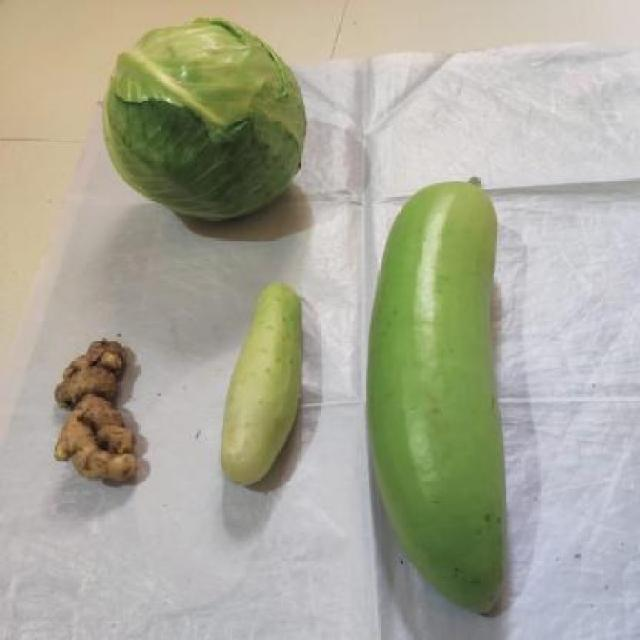Cabbage: (94, 10, 323, 226)
Calabash: (364, 160, 534, 623)
Ginger: (41, 328, 152, 494)
cucumber: (214, 264, 317, 496)
